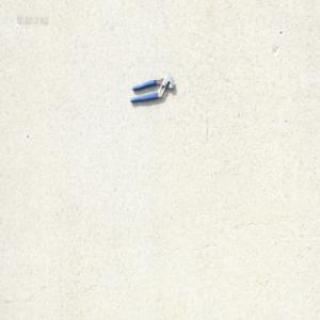Pliertrack_idkeyframe: (128, 73, 175, 104)
